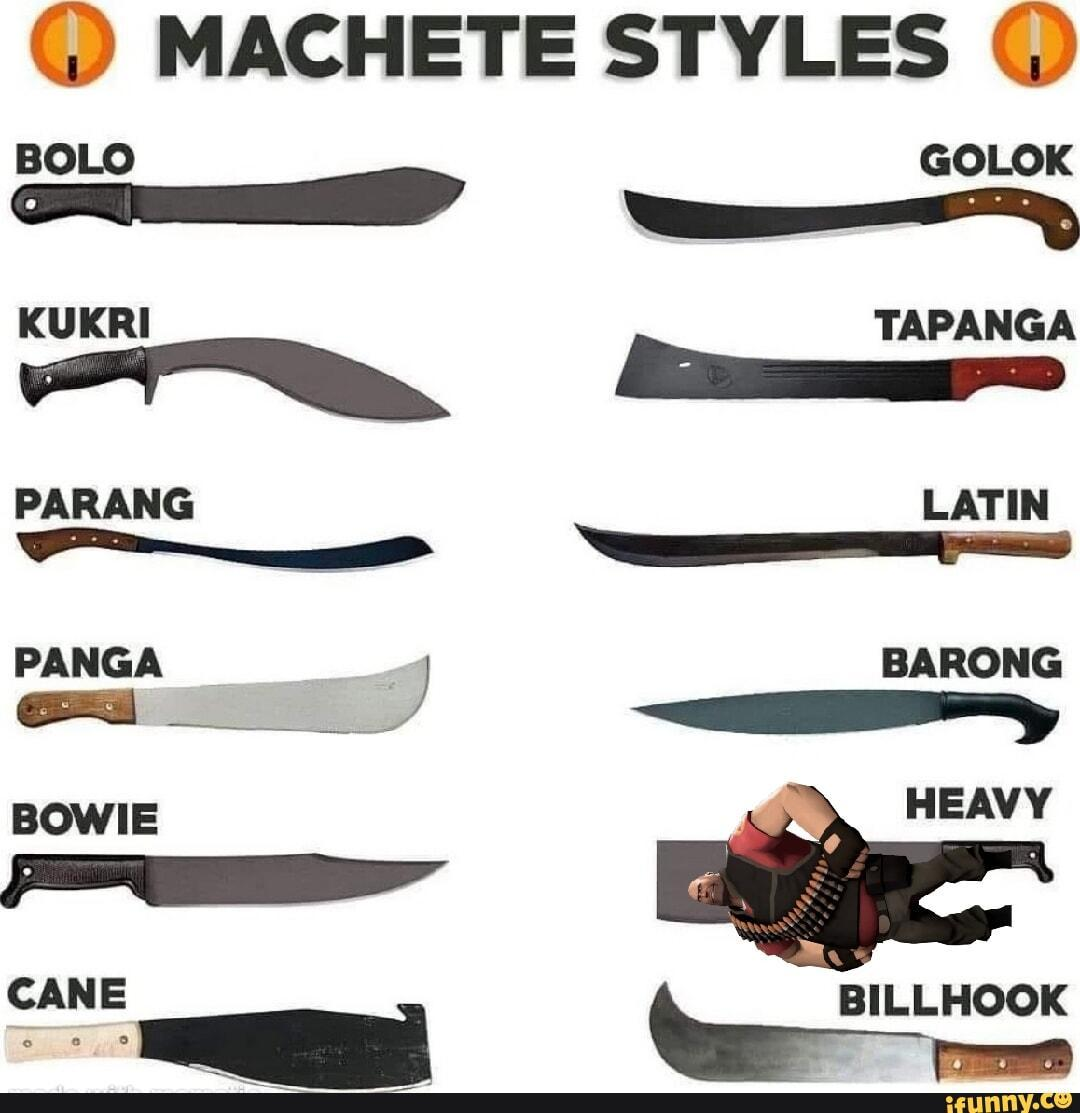facao: (650, 983, 1072, 1084), (5, 1004, 431, 1090), (21, 339, 448, 422), (17, 658, 428, 733), (616, 334, 1064, 401), (625, 188, 1079, 249), (12, 167, 463, 226), (0, 854, 444, 908), (633, 689, 1058, 745), (576, 525, 1070, 567), (19, 528, 432, 571)
